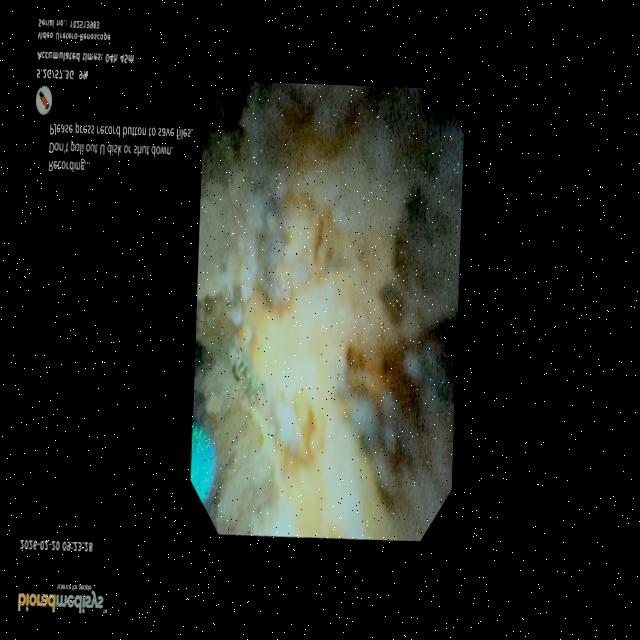stone-new: (193, 82, 463, 541)
